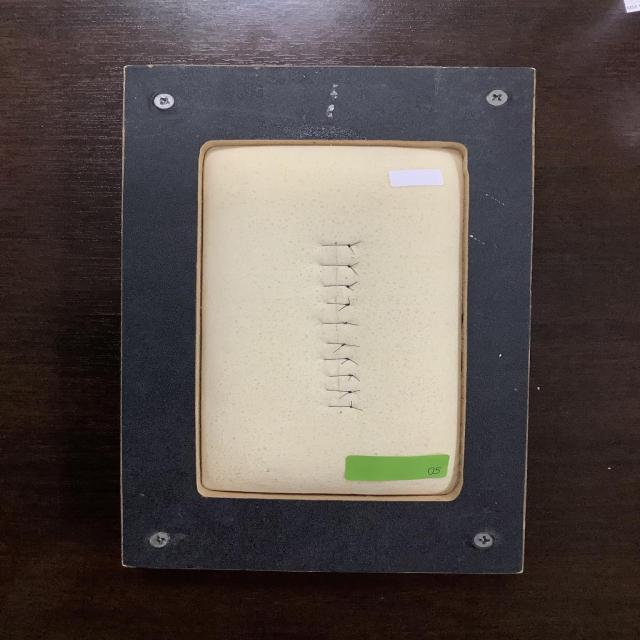knot: (345, 243, 355, 250), (342, 356, 353, 362), (343, 283, 352, 290), (343, 302, 353, 308), (345, 373, 356, 378), (341, 320, 350, 326), (345, 264, 354, 270), (339, 342, 348, 348), (346, 389, 354, 395), (348, 404, 355, 410)
leftover: (338, 391, 351, 400), (349, 266, 359, 276), (332, 345, 343, 354), (348, 240, 362, 247), (337, 304, 348, 312), (347, 281, 358, 288), (349, 261, 360, 268), (343, 343, 361, 347), (351, 375, 361, 382), (340, 358, 350, 365), (348, 359, 359, 365), (351, 406, 364, 411), (345, 322, 360, 326), (348, 246, 355, 253), (346, 374, 353, 381), (350, 389, 361, 393), (347, 297, 351, 305), (348, 287, 355, 291), (350, 400, 353, 408), (341, 320, 346, 324)
stitch: (321, 264, 352, 268), (321, 244, 351, 248), (324, 389, 352, 393), (323, 285, 350, 289), (325, 302, 351, 306), (326, 342, 346, 347), (323, 358, 351, 361), (327, 405, 354, 408), (327, 374, 354, 377), (322, 322, 348, 324)
wound: (334, 241, 342, 413)
